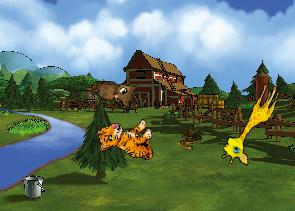giraffe: (217, 76, 283, 170)
owl: (90, 80, 137, 109)
tiger: (95, 113, 158, 170)
